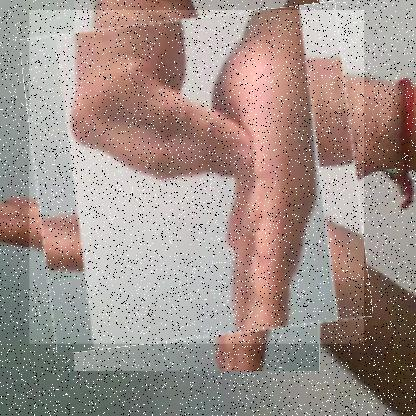Z: (28, 10, 364, 345)
